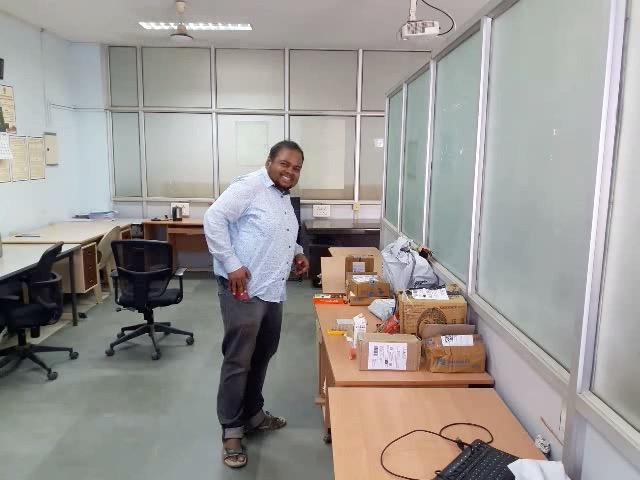shoplifting: (174, 211, 301, 356)
